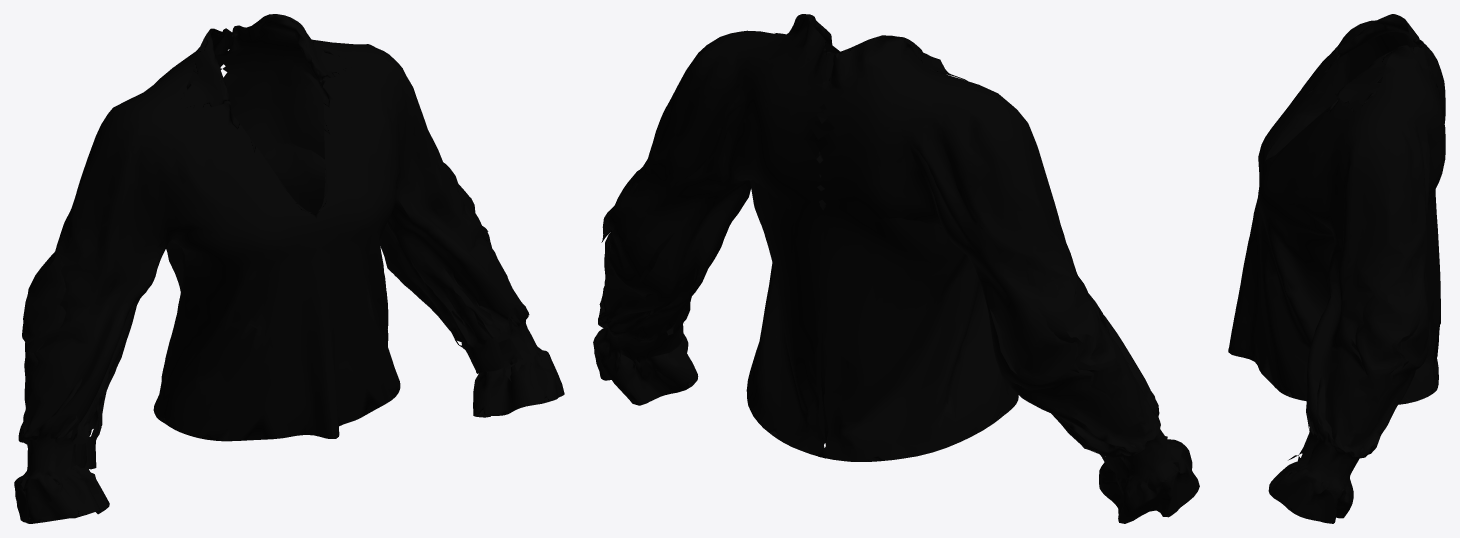
File: blouse.glb
3 renders of one model, left to right at view 1: azimuth 30°, elevation 25°; view 2: azimuth 150°, elevation 25°; view 3: azimuth 270°, elevation 25°, orthographic. The views are drawn at different scales.
Visible parts, largest first — view 1: shirt.001; view 2: shirt.001; view 3: shirt.001.
Part boxes in pixels (x1,y1,x2,y2): shirt.001: (14, 14, 564, 523); shirt.001: (593, 14, 1199, 523); shirt.001: (1228, 14, 1445, 523).
Size of the model in its own units: 0.4327 by 0.3263 by 0.1663.
Materials: 1 (1 with a texture image).
